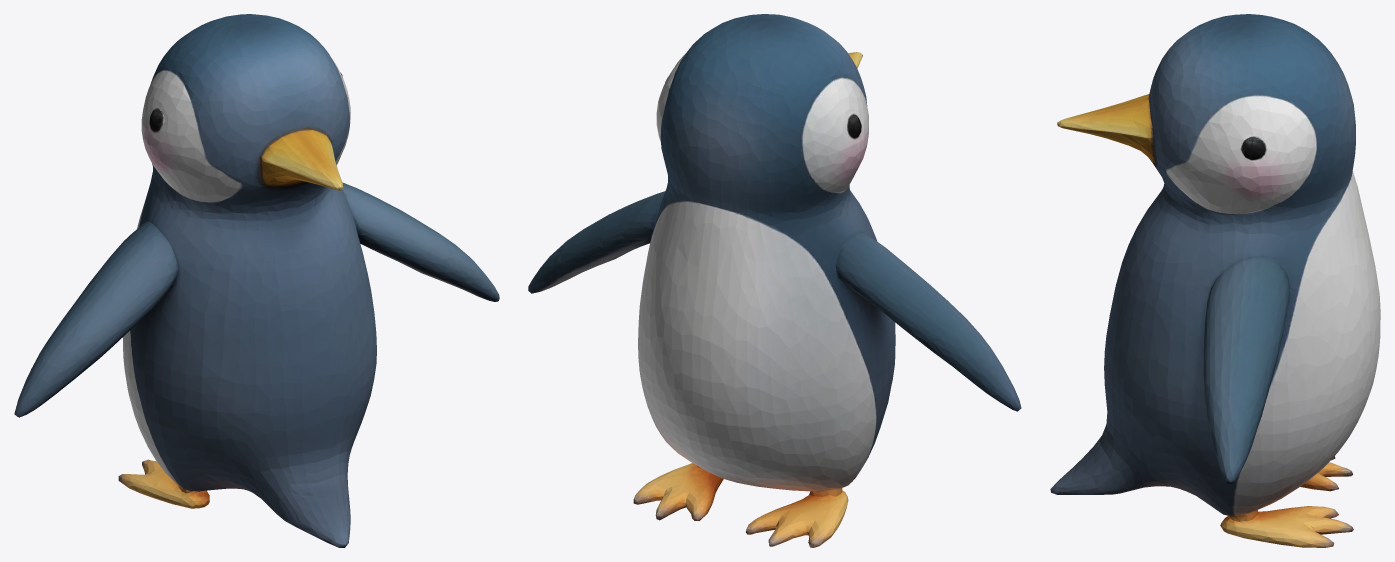
The model's file is little_penguin.glb.
3 views of the same model, side by side, from view 1: azimuth 30°, elevation 25°; view 2: azimuth 150°, elevation 25°; view 3: azimuth 270°, elevation 25° (orthographic). The views are drawn at different scales.
Visible parts, largest first — view 1: geometry_0; view 2: geometry_0; view 3: geometry_0.
Boxes of the visible parts, x1=… form: geometry_0: x1=14, y1=14, x2=499, y2=547; geometry_0: x1=528, y1=14, x2=1021, y2=547; geometry_0: x1=1050, y1=14, x2=1380, y2=547.
Bounding box in the file's own units: 0.7829 × 0.7186 × 0.4483.
1 material, 1 textured.
